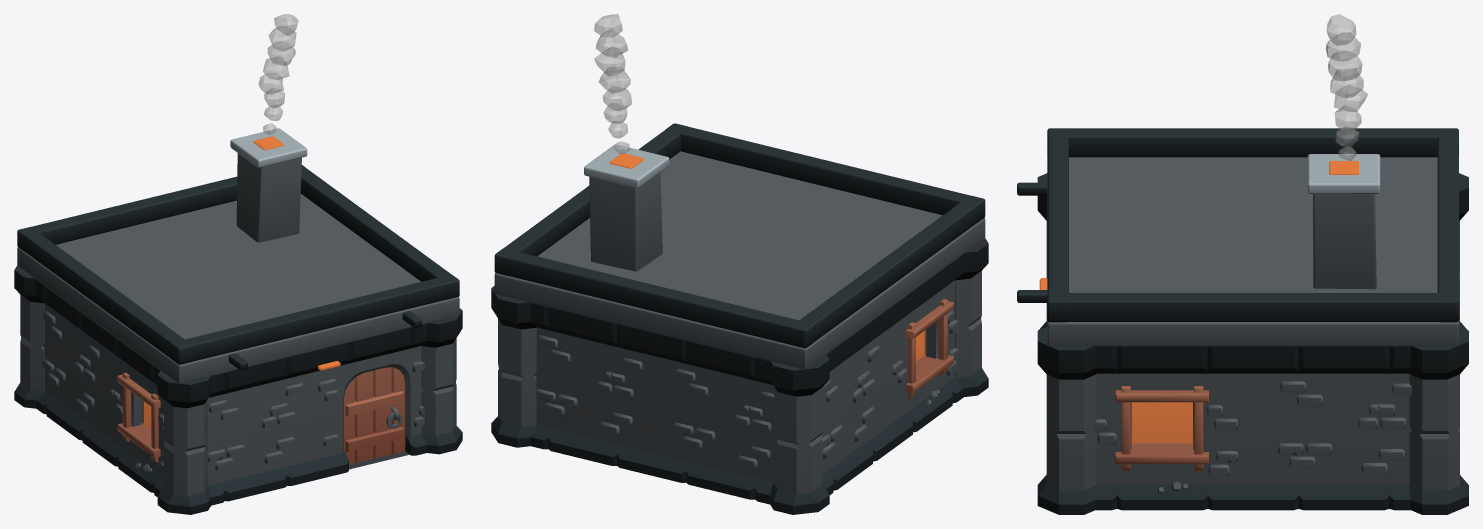
Rendered from basalt_house.glb.
3 views of the same model, side by side, from view 1: azimuth 30°, elevation 25°; view 2: azimuth 150°, elevation 25°; view 3: azimuth 270°, elevation 25° (orthographic). The views are drawn at different scales.
Parts seen in each view (by area): view 1: basalt_house; view 2: basalt_house; view 3: basalt_house.
Part boxes in pixels (x1,y1,x2,y2): basalt_house: (14,14,462,514); basalt_house: (491,14,988,514); basalt_house: (1017,14,1468,514).
Size of the model in its own units: 7.12 by 8.46 by 7.46.
5 materials, 5 textured.
